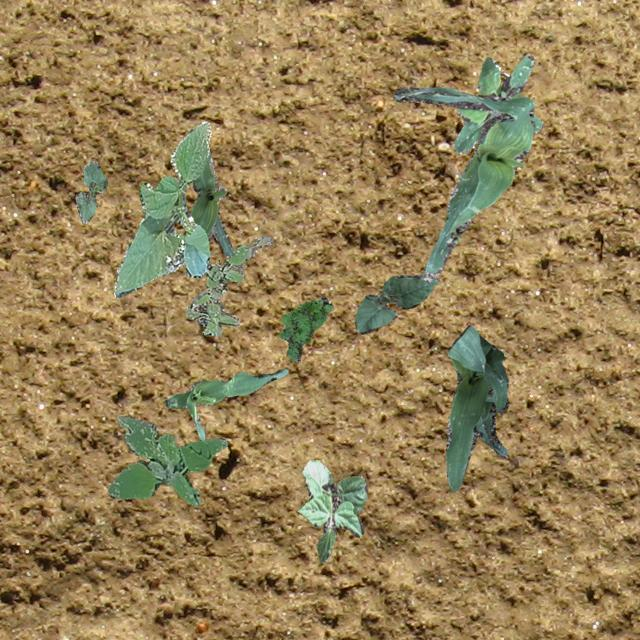crop: (392, 86, 534, 280), (112, 120, 210, 296), (446, 323, 508, 490), (164, 368, 286, 440), (296, 458, 366, 562), (353, 274, 438, 334), (188, 148, 234, 256), (75, 160, 106, 222)
weed: (106, 414, 226, 504), (452, 54, 542, 152), (184, 234, 272, 334), (278, 296, 332, 362)
